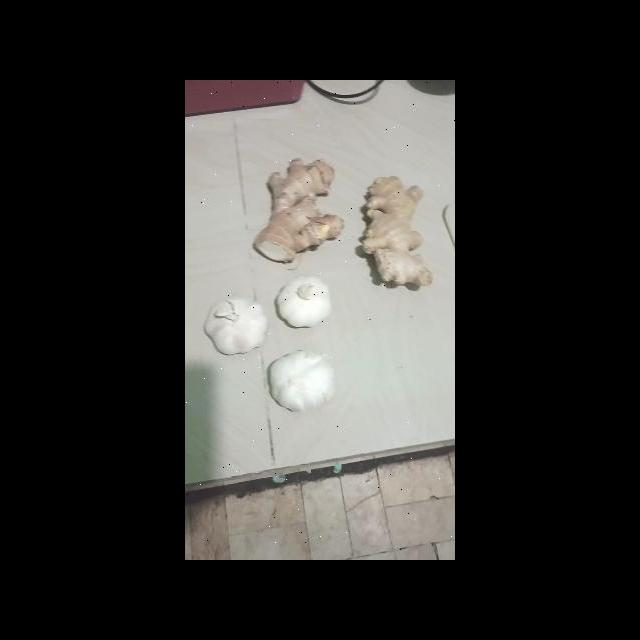garlic: (264, 347, 337, 416), (206, 296, 269, 356), (272, 274, 335, 331)
ginger: (253, 154, 348, 266), (361, 173, 438, 291)
